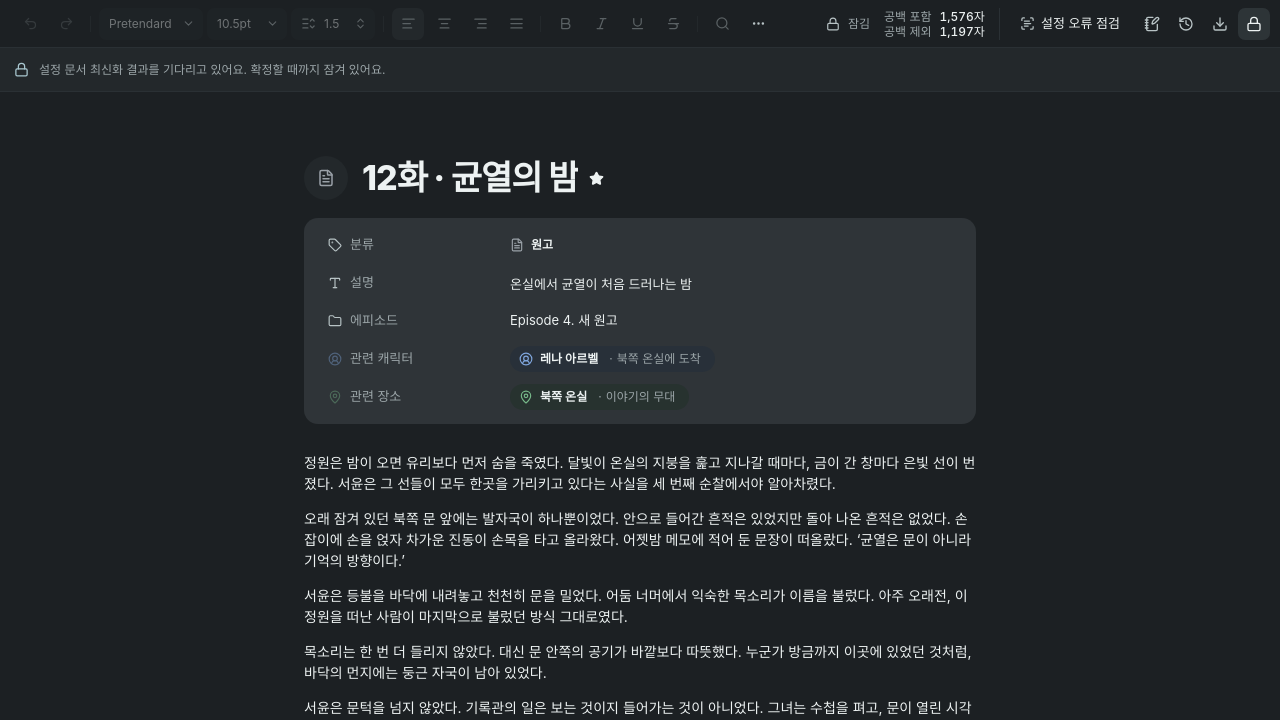
Test: DocumentView graph refresh lock › explains instead of unlocking a document a refresh holds
expect the text "설정 문서 최신화 결과를 기다리고 있어요. 확정할 때까지 잠겨 있어요." is shown: met, box [39,62,385,76]
Click the button named "설정 문서 최신화로 잠김".
click(1254, 24)  # box [1238,8,1270,40]
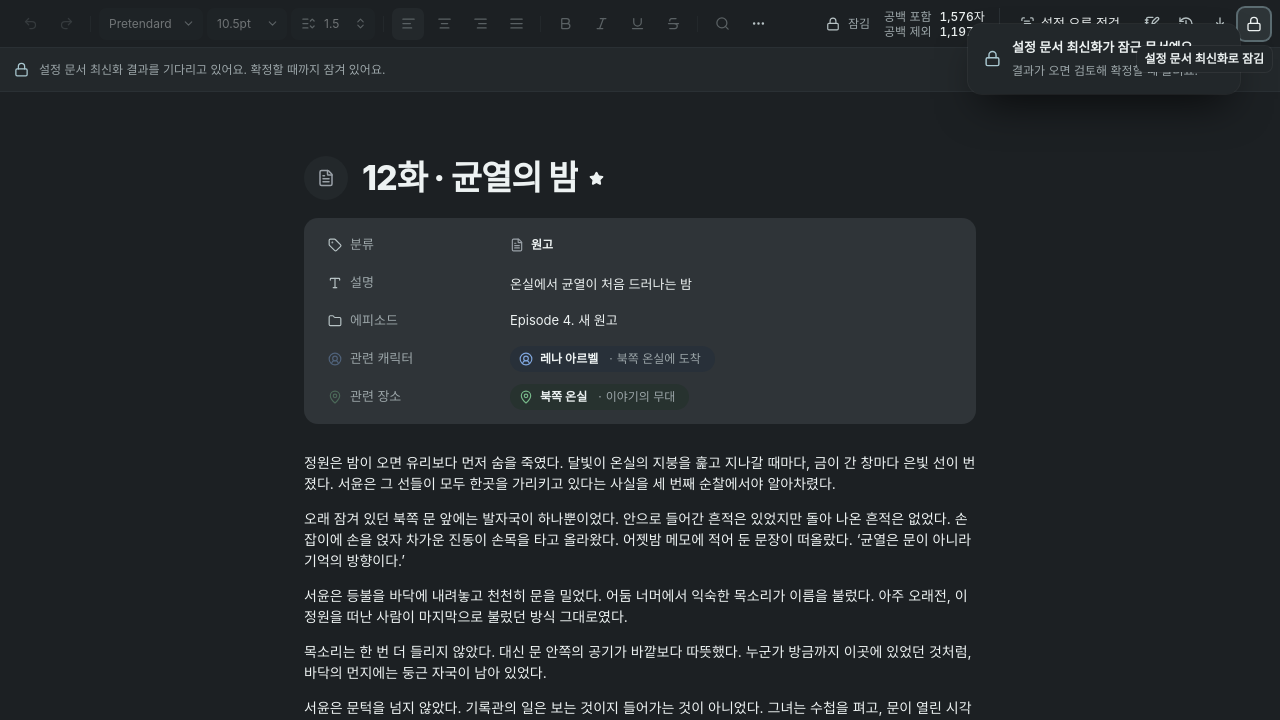
expect the text "설정 문서 최신화가 잠근 문서예요." is shown: met, box [1012,38,1226,58]
expect the text "결과가 오면 검토해 확정할 때 풀려요." is shown: met, box [1012,62,1226,80]
